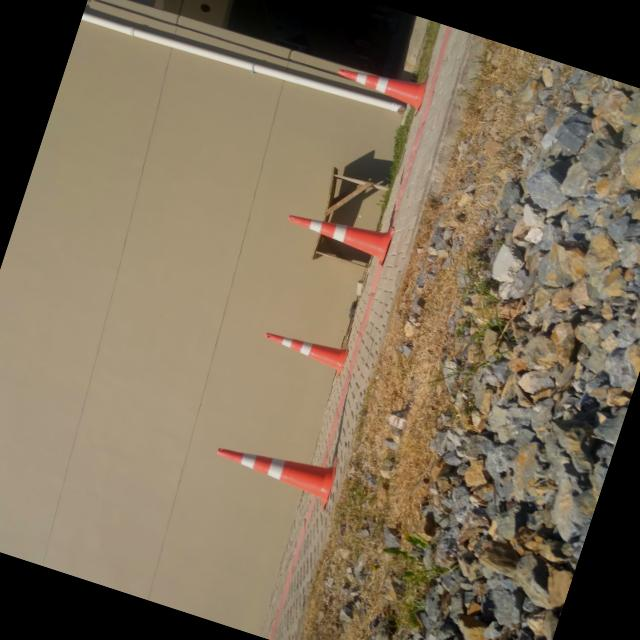cone: (196, 420, 347, 518), (276, 194, 398, 272), (328, 49, 434, 120), (252, 313, 354, 382)
